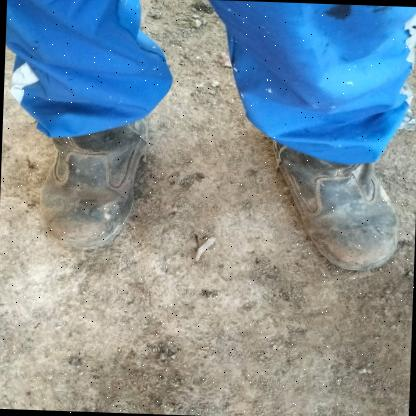bota: (267, 134, 405, 274), (38, 125, 150, 249)
